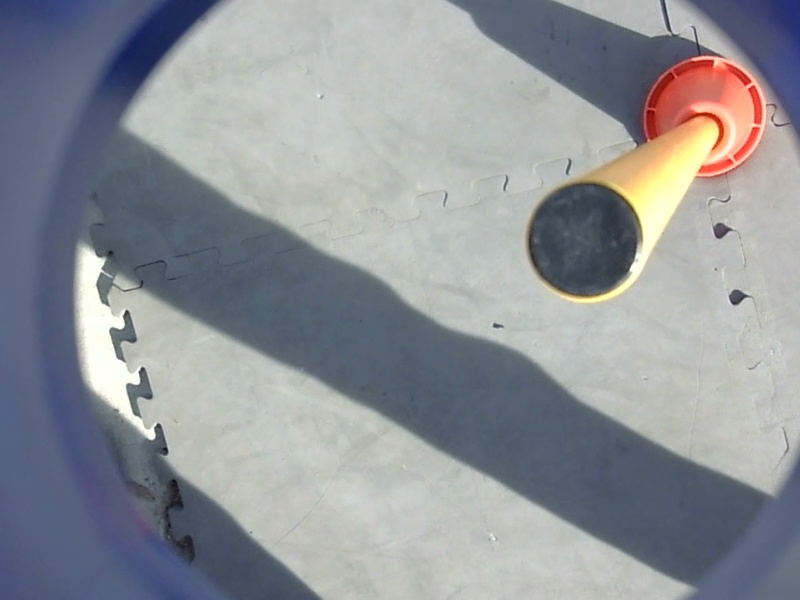tip: (521, 175, 652, 308)
